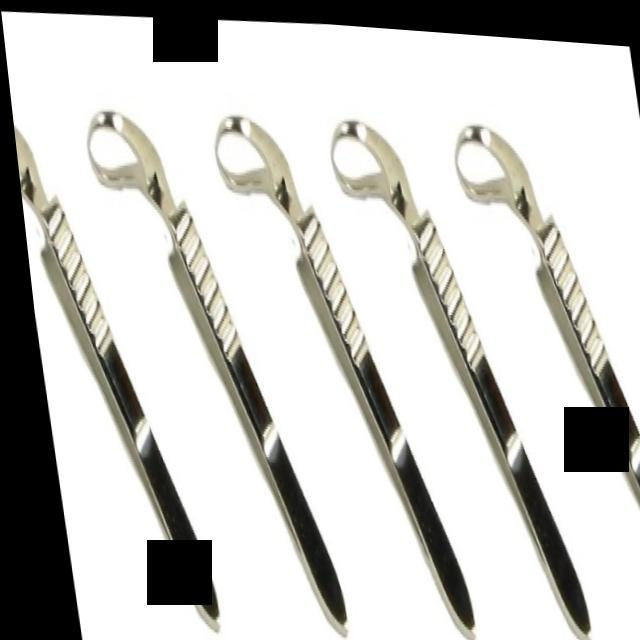Jones Towel Clamp: (200, 104, 492, 640), (67, 71, 337, 639), (318, 91, 586, 640), (7, 82, 210, 639), (441, 97, 640, 640)
